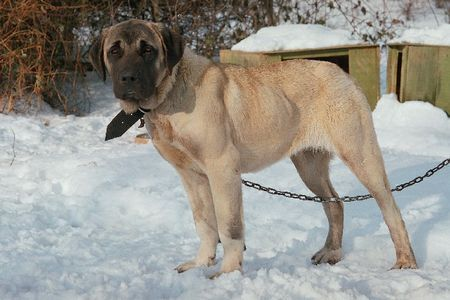kangal: (87, 18, 417, 280)
